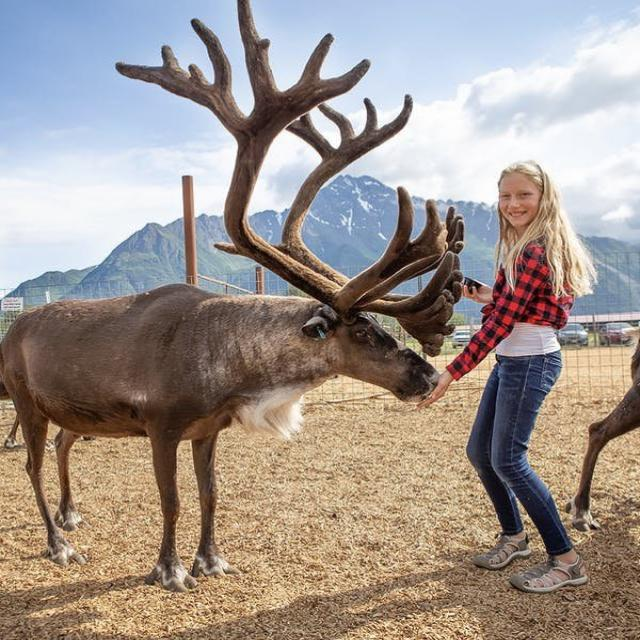Reindeer: (9, 2, 456, 592)
